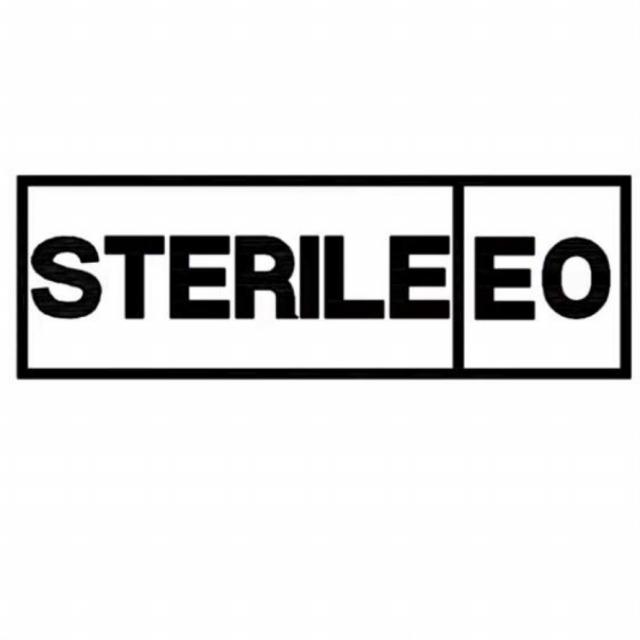Sterilized using ethylene oxide: (19, 175, 632, 383)
